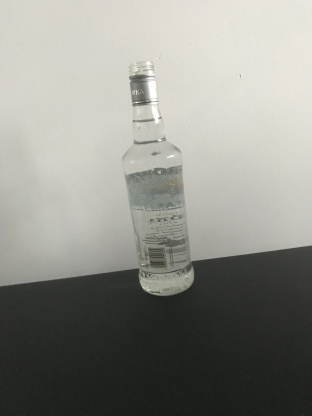nakretka: (127, 59, 160, 107)
